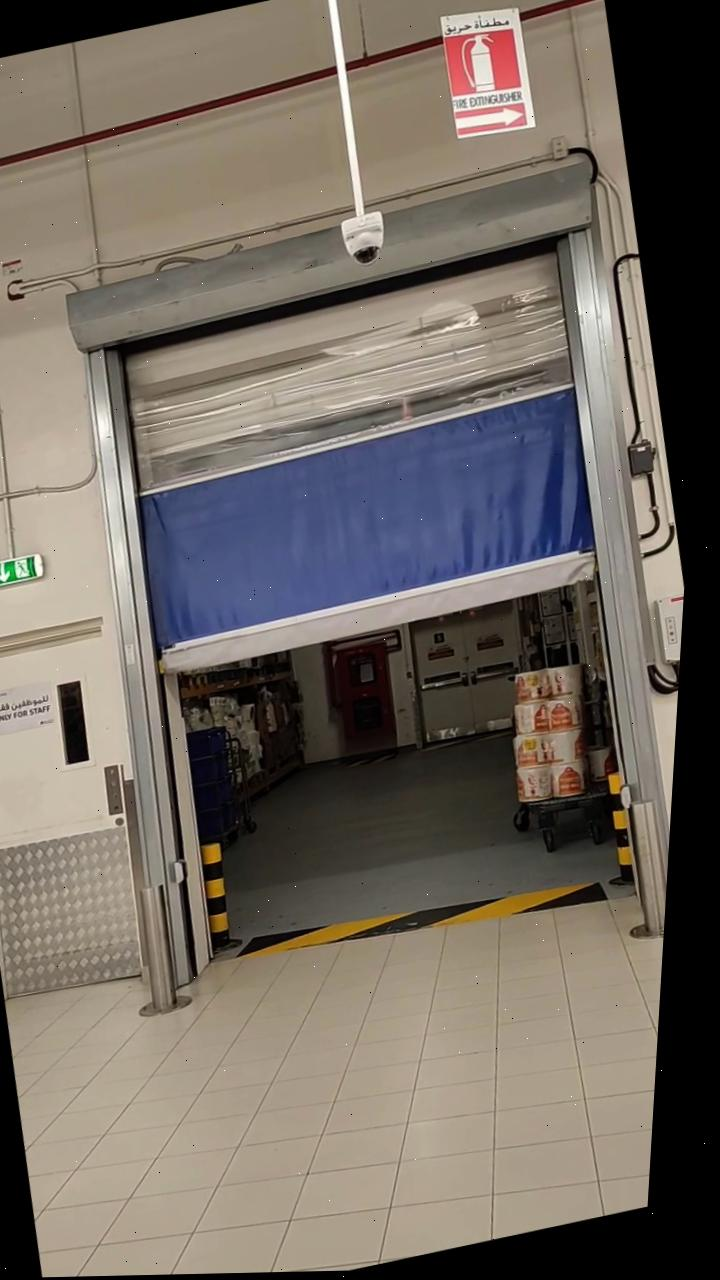Strip: (258, 855, 633, 979)
